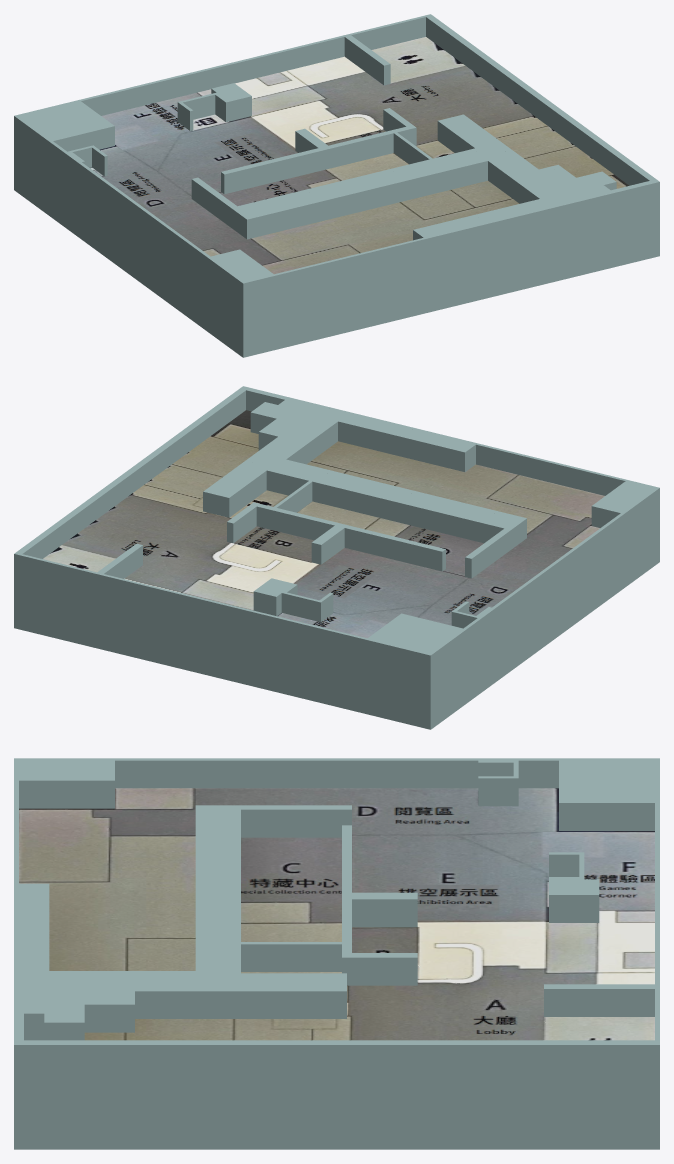
The model's file is Dah-Hsian-Library-2F-cube.glb.
3 renders of one model, top to bottom at view 1: azimuth 30°, elevation 25°; view 2: azimuth 150°, elevation 25°; view 3: azimuth 270°, elevation 25°, orthographic. The views are drawn at different scales.
Parts seen in each view (by area): view 1: Cube, Plane; view 2: Cube, Plane; view 3: Cube, Plane.
Boxes of the visible parts, box(x1,y1,x2,y2) form: Cube: box(14, 14, 659, 357); Plane: box(90, 37, 629, 274); Cube: box(14, 386, 659, 729); Plane: box(43, 410, 604, 638); Cube: box(14, 758, 659, 1149); Plane: box(19, 788, 654, 1040).
Bounding box in the file's own units: 17.61 × 3 × 16.77.
Materials: 2 (1 with a texture image).
